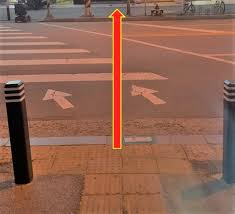guide_blocks: (31, 146, 235, 171), (81, 173, 165, 213)
